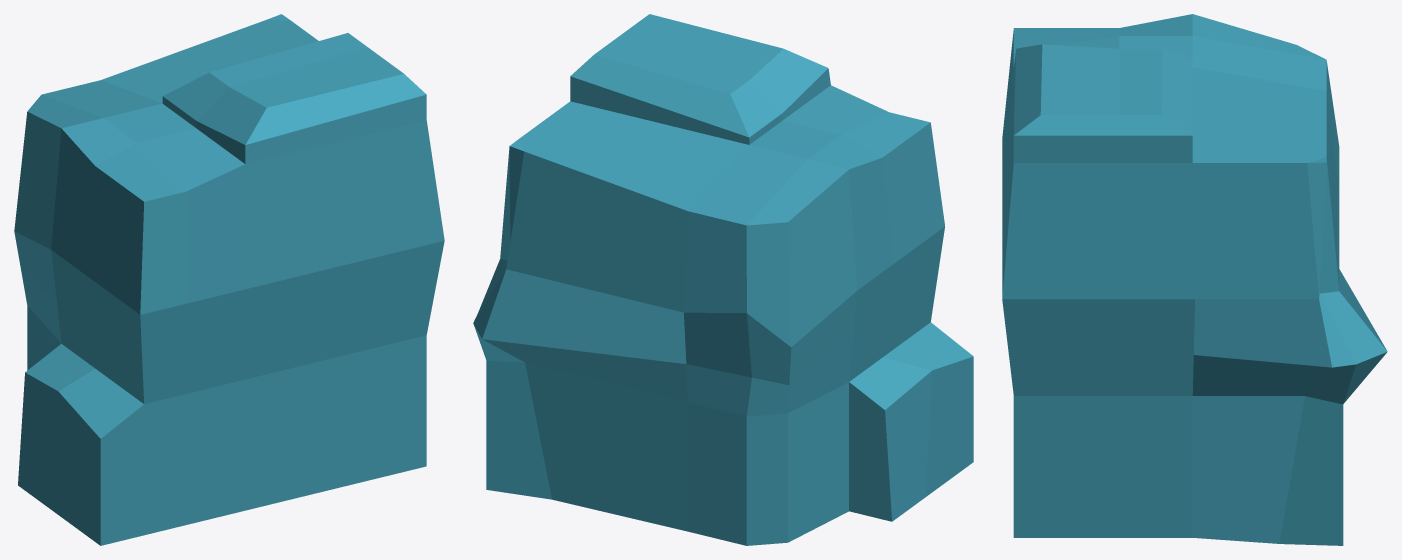
Rendered from SM_high_cliff.fbx.
3 views of the same model, side by side, from view 1: azimuth 30°, elevation 25°; view 2: azimuth 150°, elevation 25°; view 3: azimuth 270°, elevation 25° (orthographic). The views are drawn at different scales.
Parts seen in each view (by area): view 1: high_cliff; view 2: high_cliff; view 3: high_cliff.
Part boxes in pixels (x1=…): high_cliff: x1=14, y1=14, x2=444, y2=545; high_cliff: x1=473, y1=14, x2=973, y2=545; high_cliff: x1=1002, y1=14, x2=1387, y2=545.
Bounding box in the file's own units: 6229 × 6466 × 5412.
